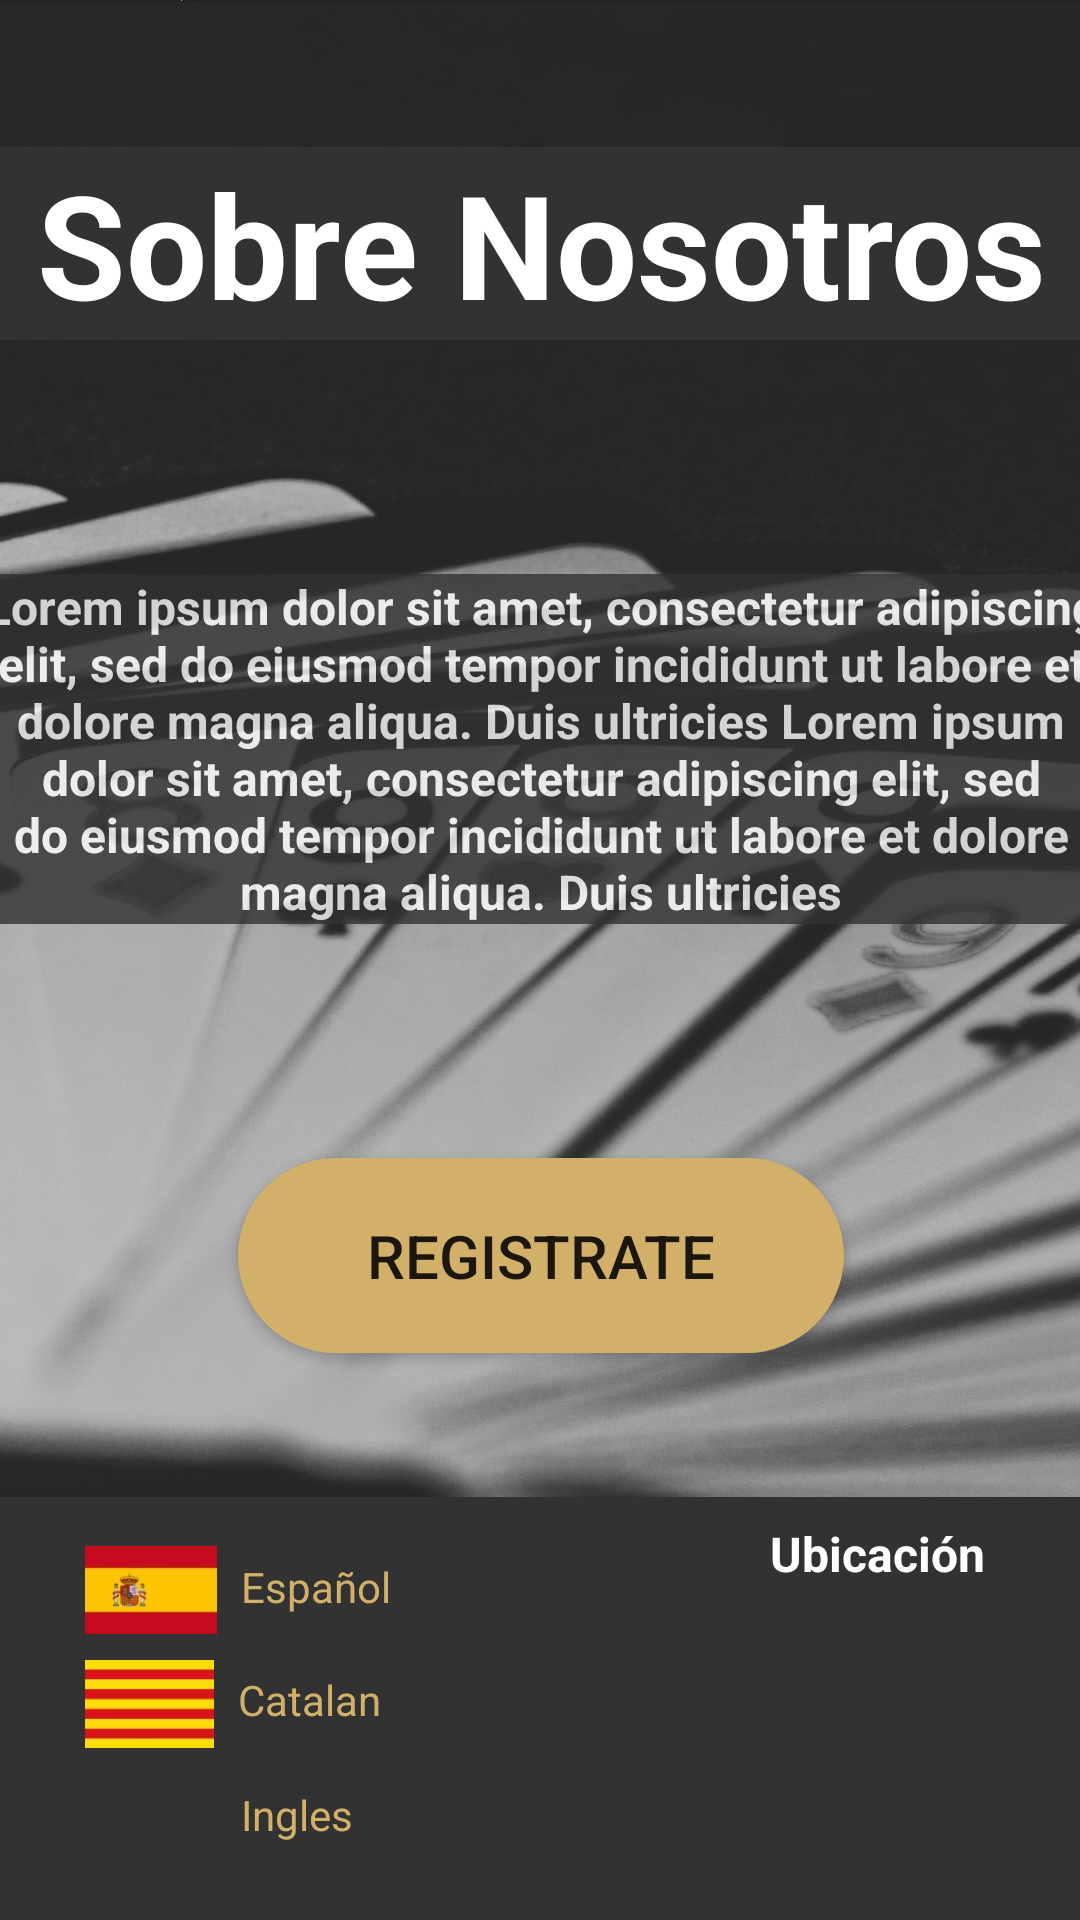

Where to tap for icons on this 1080px x 1920px app screen, as [x,y]:
catalunya: [149,1704]
espana: [151,1590]
